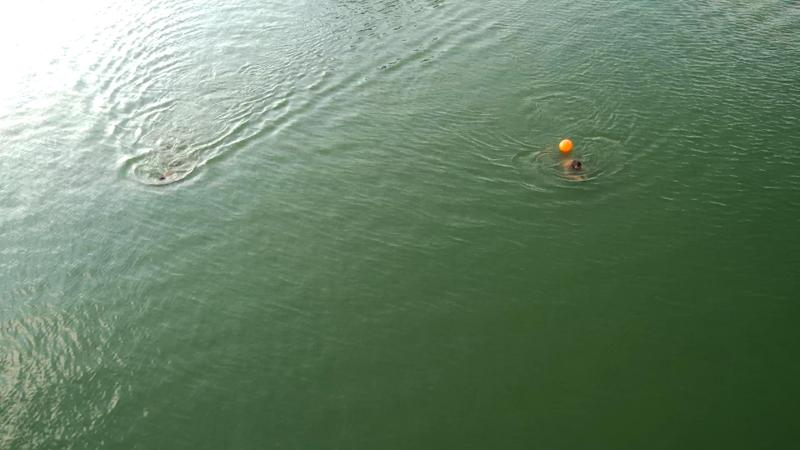swimmers: (560, 157, 588, 181)
